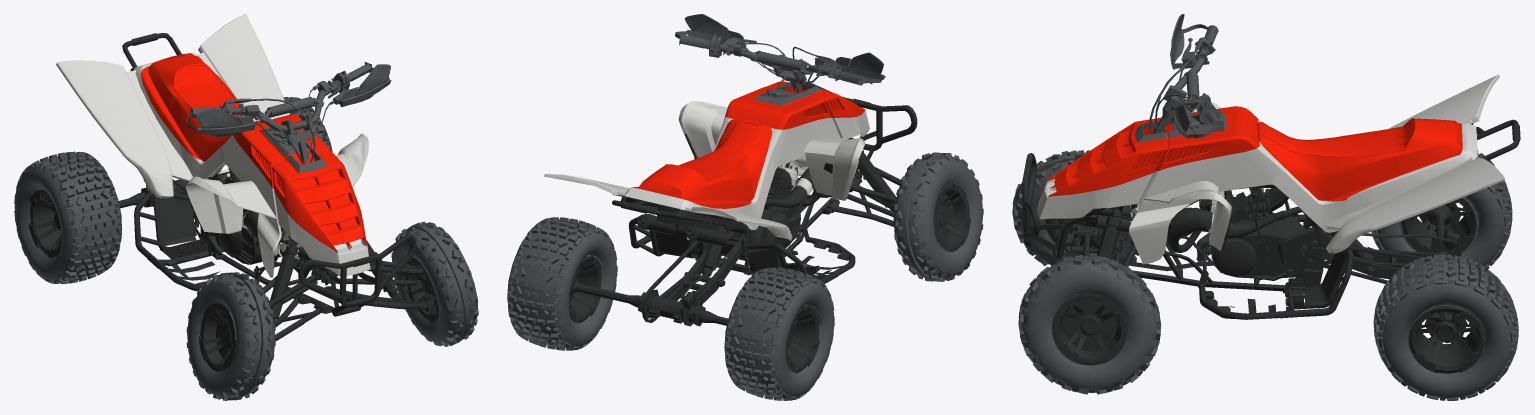
File: suzuki_quadzilla_500.glb
The picture shows the model from 3 angles, left to right: view 1: azimuth 30°, elevation 25°; view 2: azimuth 150°, elevation 25°; view 3: azimuth 270°, elevation 25°; orthographic projection. The views are drawn at different scales.
Parts seen in each view (by area): view 1: Object_5, Object_3, Object_2, Object_4; view 2: Object_5, Object_2, Object_3, Object_4; view 3: Object_2, Object_5, Object_3, Object_4.
Boxes of the visible parts, x1,y1,x2,y2 form: Object_5: (14, 62, 478, 400); Object_3: (56, 14, 370, 277); Object_2: (28, 33, 438, 371); Object_4: (141, 53, 367, 252); Object_5: (507, 14, 983, 400); Object_2: (569, 83, 970, 373); Object_3: (544, 101, 869, 240); Object_4: (632, 81, 865, 208); Object_2: (1022, 119, 1520, 373); Object_5: (1012, 14, 1518, 400); Object_3: (1037, 74, 1505, 264); Object_4: (1048, 106, 1462, 201).
Bounding box in the file's own units: 57.59 × 50 × 83.63.
